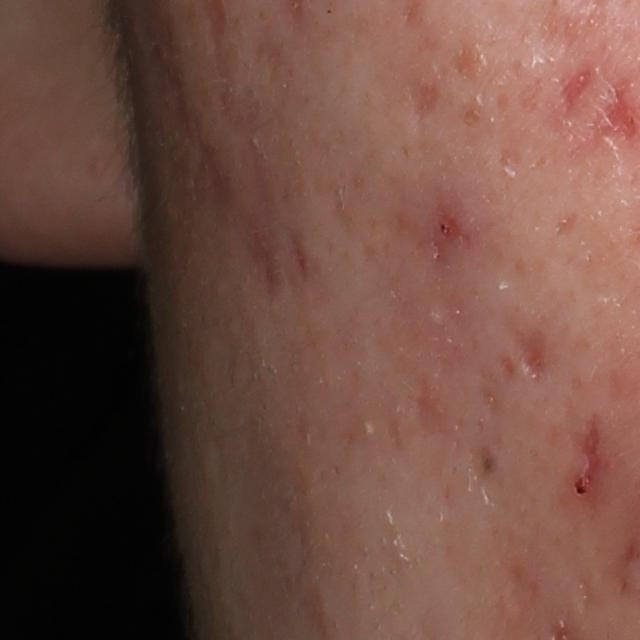atrophic_scar: (591, 80, 638, 146), (508, 330, 552, 384), (557, 66, 592, 114), (411, 75, 442, 121), (450, 37, 481, 80), (494, 131, 525, 170), (550, 207, 577, 236)
nevus: (482, 455, 498, 474)
